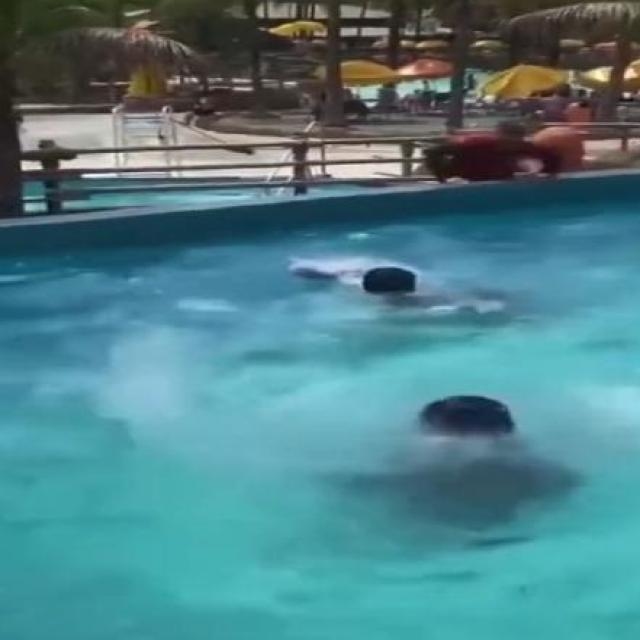Swimming: (379, 392, 573, 520), (286, 254, 497, 319)
